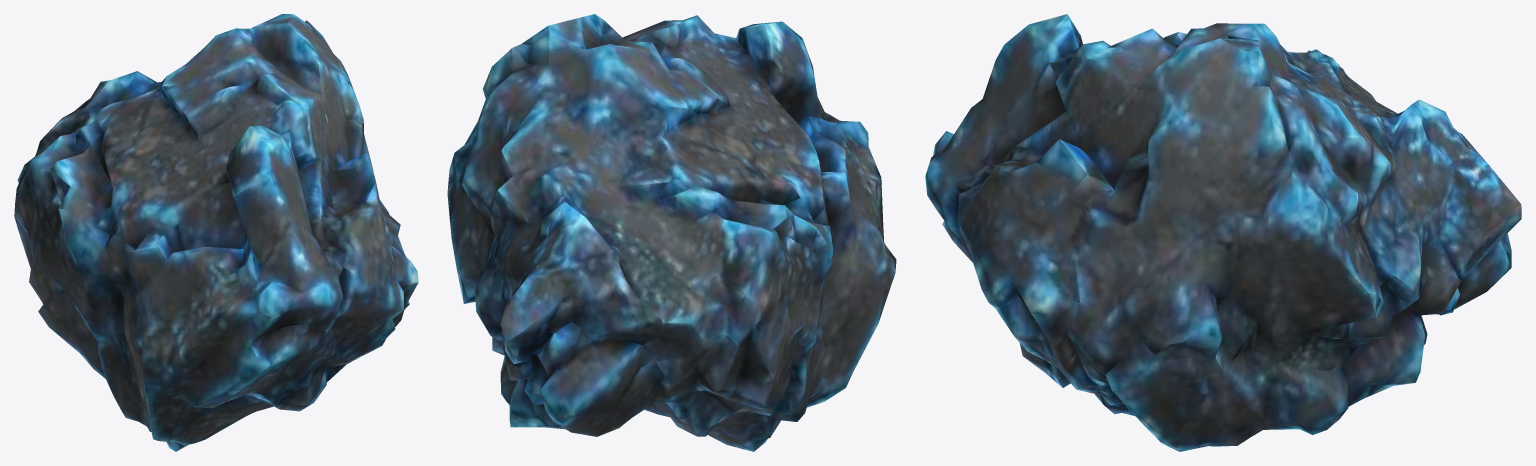
File: SM_PalCrystalL_4afbc2.glb
3 renders of one model, left to right at view 1: azimuth 30°, elevation 25°; view 2: azimuth 150°, elevation 25°; view 3: azimuth 270°, elevation 25°, orthographic. The views are drawn at different scales.
Size of the model in its own units: 1.53 by 1.75 by 2.16.
Materials: 1 (1 with a texture image).
